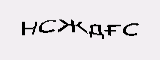Д: (89, 21, 104, 41)
Ж: (56, 15, 87, 34)
Н: (19, 18, 38, 36)
С: (38, 17, 58, 35), (121, 20, 142, 37)
Ғ: (104, 21, 120, 39)
